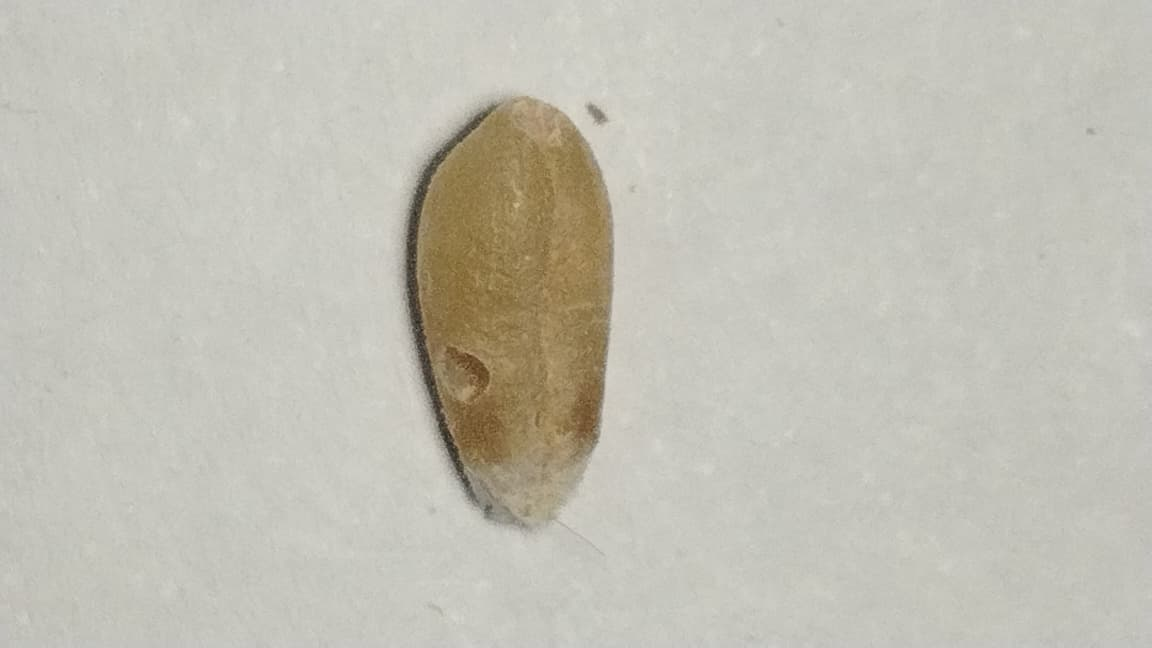damage: (414, 96, 612, 528)
insectdamage: (440, 322, 505, 411)
